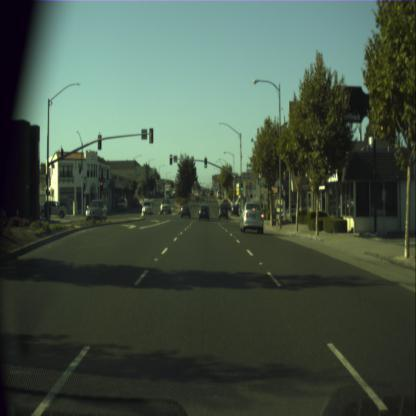Green: (204, 157, 207, 168), (240, 182, 242, 191)
Red: (100, 181, 104, 191), (169, 154, 172, 165)
